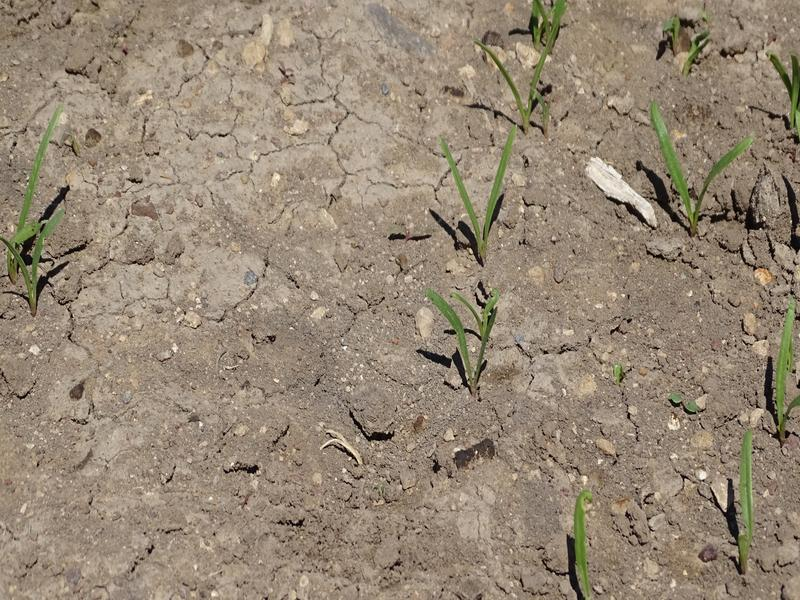Espinaca: (653, 101, 742, 222), (442, 128, 520, 244), (418, 282, 505, 383), (475, 35, 555, 123), (11, 158, 52, 310), (774, 303, 800, 427), (738, 430, 757, 566), (568, 493, 597, 582), (773, 49, 800, 132)
